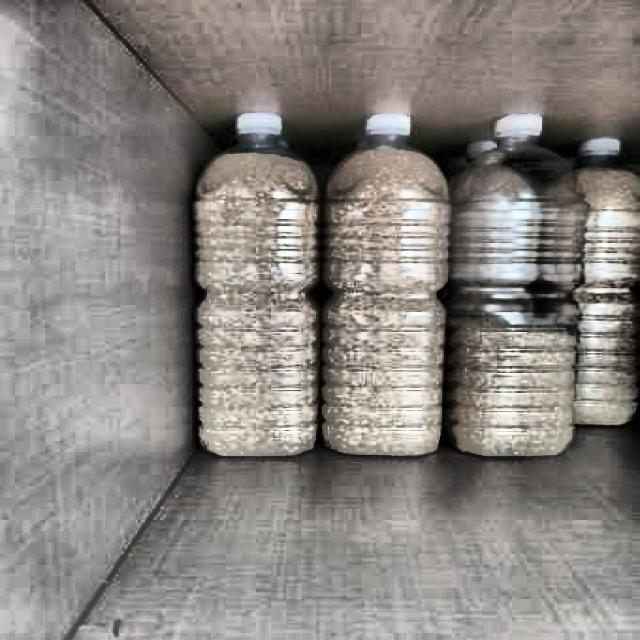Bottles: (317, 102, 452, 474), (184, 102, 324, 460), (449, 97, 581, 475), (531, 101, 639, 478)
